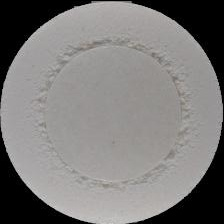42367-111: (0, 0, 224, 224)
